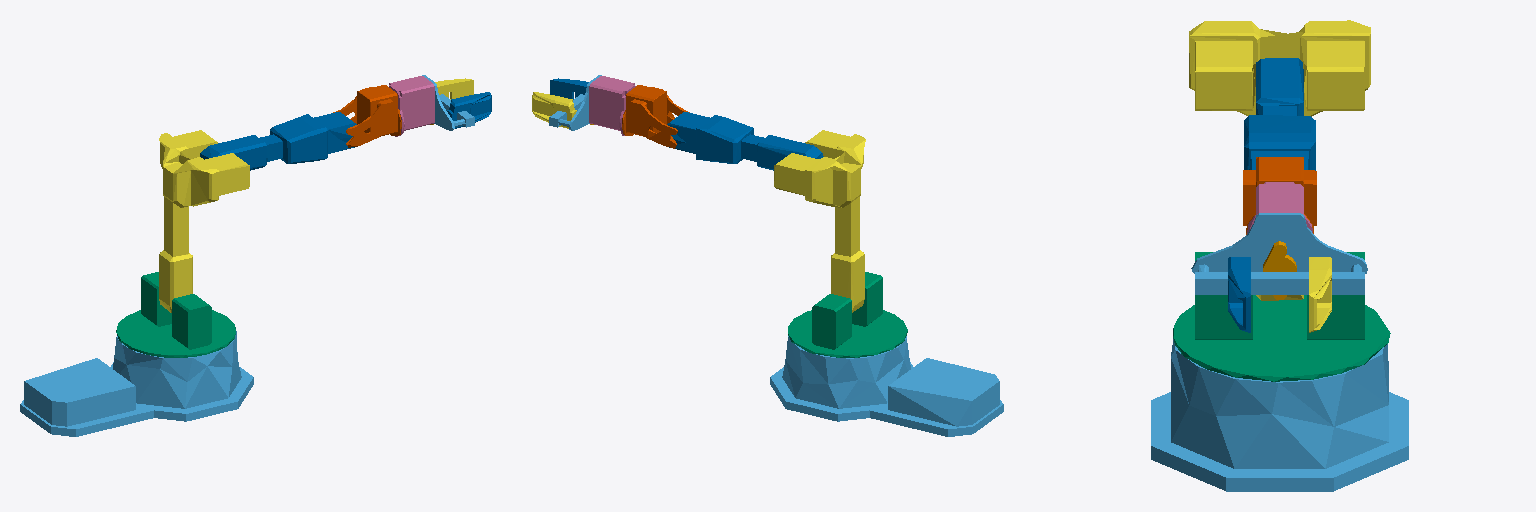
robot.urdf — px150:
<?xml version="1.0" ?>
<!-- =================================================================================== -->
<!-- |    This document was autogenerated by xacro from px150_coll.urdf.xacro          | -->
<!-- |    EDITING THIS FILE BY HAND IS NOT RECOMMENDED                                 | -->
<!-- =================================================================================== -->
<!-- gz-11.3.0 sdf -p px150_coll.urdf >px150_coll.sdf -->
<robot name="px150">
  <material name="interbotix_black">
    <texture filename="package://meshes/interbotix_black.png"/>
  </material>
  <link name="world"/>
  <joint name="fix_to_world" type="fixed">
    <parent link="world"/>
    <child link="px150/base_link"/>
  </joint>
  <link name="px150/base_link">
    <visual>
      <origin rpy="0 0 -1.5707963267948966" xyz="0 0 0"/>
      <geometry>
        <mesh filename="package://meshes/px150_meshes/px150_1_base_coll.stl" scale="0.001 0.001 0.001"/>
      </geometry>
      <material name="interbotix_black"/>
    </visual>
    <collision>
      <origin rpy="0 0 -1.5707963267948966" xyz="0 0 0"/>
      <geometry>
        <mesh filename="package://meshes/px150_meshes/px150_1_base_coll.stl" scale="0.001 0.001 0.001"/>
      </geometry>
    </collision>
    <inertial>
      <origin rpy="0 0 1.5707963267948966" xyz="-0.0354561000 -0.0033567000 0.0253423000"/>
      <mass value="0.766173"/>
      <inertia ixx="0.0033550000" ixy="-0.0001248000" ixz="0.0000110400" iyy="0.0013570000" iyz="0.0002101000" izz="0.0041120000"/>
    </inertial>
  </link>
  <joint name="waist" type="revolute">
    <axis xyz="0 0 1"/>
    <limit effort="8" lower="-3.141582653589793" upper="3.141582653589793" velocity="3.141592653589793"/>
    <origin rpy="0 0 0" xyz="0 0 0.06566"/>
    <parent link="px150/base_link"/>
    <child link="px150/shoulder_link"/>
    <dynamics friction="0.1"/>
  </joint>
  <transmission name="trans_waist">
    <type>transmission_interface/SimpleTransmission</type>
    <joint name="waist">
      <hardwareInterface>hardware_interface/EffortJointInterface</hardwareInterface>
    </joint>
    <actuator name="waist_motor">
      <mechanicalReduction>1</mechanicalReduction>
    </actuator>
  </transmission>
  <link name="px150/shoulder_link">
    <visual>
      <origin rpy="0 0 -1.5707963267948966" xyz="0 0 0.0015"/>
      <geometry>
        <mesh filename="package://meshes/px150_meshes/px150_2_shoulder_coll.stl" scale="0.001 0.001 0.001"/>
      </geometry>
      <material name="interbotix_black"/>
    </visual>
    <collision>
      <origin rpy="0 0 -1.5707963267948966" xyz="0 0 0.0015"/>
      <geometry>
        <mesh filename="package://meshes/px150_meshes/px150_2_shoulder_coll.stl" scale="0.001 0.001 0.001"/>
      </geometry>
    </collision>
    <inertial>
      <origin rpy="0 0 1.5707963267948966" xyz="-0.0001000750 0.0000203624 0.0104104000"/>
      <mass value="0.287601"/>
      <inertia ixx="0.0002390000" ixy="0.0000000010" ixz="0.0000000348" iyy="0.0003634000" iyz="0.0000003613" izz="0.0004126000"/>
    </inertial>
  </link>
  <joint name="shoulder" type="revolute">
    <axis xyz="0 1 0"/>
    <limit effort="18" lower="-1.9373154697137058" upper="1.9373154697137058" velocity="3.141592653589793"/>
    <origin rpy="0 0 0" xyz="0 0 0.03891"/>
    <parent link="px150/shoulder_link"/>
    <child link="px150/upper_arm_link"/>
    <dynamics friction="0.1"/>
  </joint>
  <transmission name="trans_shoulder">
    <type>transmission_interface/SimpleTransmission</type>
    <joint name="shoulder">
      <hardwareInterface>hardware_interface/EffortJointInterface</hardwareInterface>
    </joint>
    <actuator name="shoulder_motor">
      <mechanicalReduction>1</mechanicalReduction>
    </actuator>
  </transmission>
  <link name="px150/upper_arm_link">
    <visual>
      <origin rpy="0 0 1.5707963267948966" xyz="0 0 0"/>
      <geometry>
        <mesh filename="package://meshes/px150_meshes/px150_3_upper_arm_coll.stl" scale="0.001 0.001 0.001"/>
      </geometry>
      <material name="interbotix_black"/>
    </visual>
    <collision>
      <origin rpy="0 0 1.5707963267948966" xyz="0 0 0"/>
      <geometry>
        <mesh filename="package://meshes/px150_meshes/px150_3_upper_arm_coll.stl" scale="0.001 0.001 0.001"/>
      </geometry>
    </collision>
    <inertial>
      <origin rpy="0 0 1.5707963267948966" xyz="0.0166098000 0.0000000279 0.1157350000"/>
      <mass value="0.338081"/>
      <inertia ixx="0.0010210000" ixy="-0.0000000001" ixz="0.0000000000" iyy="0.0011320000" iyz="0.0001839000" izz="0.0003525000"/>
    </inertial>
  </link>
  <joint name="elbow" type="revolute">
    <axis xyz="0 1 0"/>
    <limit effort="13" lower="-2.0943951023931953" upper="1.6580627893946132" velocity="3.141592653589793"/>
    <origin rpy="0 0 0" xyz="0.05 0 0.15"/>
    <parent link="px150/upper_arm_link"/>
    <child link="px150/forearm_link"/>
    <dynamics friction="0.1"/>
  </joint>
  <transmission name="trans_elbow">
    <type>transmission_interface/SimpleTransmission</type>
    <joint name="elbow">
      <hardwareInterface>hardware_interface/EffortJointInterface</hardwareInterface>
    </joint>
    <actuator name="elbow_motor">
      <mechanicalReduction>1</mechanicalReduction>
    </actuator>
  </transmission>
  <link name="px150/forearm_link">
    <visual>
      <origin rpy="0 0 1.5707963267948966" xyz="0 0 0"/>
      <geometry>
        <mesh filename="package://meshes/px150_meshes/px150_4_forearm_coll.stl" scale="0.001 0.001 0.001"/>
      </geometry>
      <material name="interbotix_black"/>
    </visual>
    <collision>
      <origin rpy="0 0 1.5707963267948966" xyz="0 0 0"/>
      <geometry>
        <mesh filename="package://meshes/px150_meshes/px150_4_forearm_coll.stl" scale="0.001 0.001 0.001"/>
      </geometry>
    </collision>
    <inertial>
      <origin rpy="0 0 1.5707963267948966" xyz="0.0848470000 -0.0001072261 0.0000000000"/>
      <mass value="0.226542"/>
      <inertia ixx="0.0005125000" ixy="-0.0000013403" ixz="0.0000000000" iyy="0.0000498800" iyz="0.0000000000" izz="0.0005207000"/>
    </inertial>
  </link>
  <joint name="wrist_angle" type="revolute">
    <axis xyz="0 1 0"/>
    <limit effort="5" lower="-1.7453292519943295" upper="2.1467549799530254" velocity="3.141592653589793"/>
    <origin rpy="0 0 0" xyz="0.15 0 0"/>
    <parent link="px150/forearm_link"/>
    <child link="px150/wrist_link"/>
    <dynamics friction="0.1"/>
  </joint>
  <transmission name="trans_wrist_angle">
    <type>transmission_interface/SimpleTransmission</type>
    <joint name="wrist_angle">
      <hardwareInterface>hardware_interface/EffortJointInterface</hardwareInterface>
    </joint>
    <actuator name="wrist_angle_motor">
      <mechanicalReduction>1</mechanicalReduction>
    </actuator>
  </transmission>
  <link name="px150/wrist_link">
    <visual>
      <origin rpy="0 0 1.5707963267948966" xyz="0 0 0"/>
      <geometry>
        <mesh filename="package://meshes/px150_meshes/px150_5_wrist_coll.stl" scale="0.001 0.001 0.001"/>
      </geometry>
      <material name="interbotix_black"/>
    </visual>
    <collision>
      <origin rpy="0 0 1.5707963267948966" xyz="0 0 0"/>
      <geometry>
        <mesh filename="package://meshes/px150_meshes/px150_5_wrist_coll.stl" scale="0.001 0.001 0.001"/>
      </geometry>
    </collision>
    <inertial>
      <origin rpy="0 0 1.5707963267948966" xyz="0.0423600000 -0.0000104110 0.0105770000"/>
      <mass value="0.084957"/>
      <inertia ixx="0.0000308200" ixy="0.0000000191" ixz="0.0000000023" iyy="0.0000282200" iyz="0.0000025481" izz="0.0000315200"/>
    </inertial>
  </link>
  <joint name="wrist_rotate" type="revolute">
    <axis xyz="1 0 0"/>
    <limit effort="1" lower="-3.141582653589793" upper="3.141582653589793" velocity="3.141592653589793"/>
    <origin rpy="0 0 0" xyz="0.065 0 0"/>
    <parent link="px150/wrist_link"/>
    <child link="px150/gripper_link"/>
    <dynamics friction="0.1"/>
  </joint>
  <transmission name="trans_wrist_rotate">
    <type>transmission_interface/SimpleTransmission</type>
    <joint name="wrist_rotate">
      <hardwareInterface>hardware_interface/EffortJointInterface</hardwareInterface>
    </joint>
    <actuator name="wrist_rotate_motor">
      <mechanicalReduction>1</mechanicalReduction>
    </actuator>
  </transmission>
  <link name="px150/gripper_link">
    <visual>
      <origin rpy="0 0 1.5707963267948966" xyz="-0.02 0 0"/>
      <geometry>
        <mesh filename="package://meshes/px150_meshes/px150_6_gripper_coll.stl" scale="0.001 0.001 0.001"/>
      </geometry>
      <material name="interbotix_black"/>
    </visual>
    <collision>
      <origin rpy="0 0 1.5707963267948966" xyz="-0.02 0 0"/>
      <geometry>
        <mesh filename="package://meshes/px150_meshes/px150_6_gripper_coll.stl" scale="0.001 0.001 0.001"/>
      </geometry>
    </collision>
    <inertial>
      <origin rpy="0 0 1.5707963267948966" xyz="0.0216300000 0.0000000000 0.0114100000"/>
      <mass value="0.072885"/>
      <inertia ixx="0.0000253700" ixy="0.0000000000" ixz="0.0000000000" iyy="0.0000183600" iyz="0.0000004340" izz="0.0000167400"/>
    </inertial>
  </link>
  <joint name="ee_arm" type="fixed">
    <axis xyz="1 0 0"/>
    <origin rpy="0 0 0" xyz="0.043 0 0"/>
    <parent link="px150/gripper_link"/>
    <child link="px150/ee_arm_link"/>
  </joint>
  <link name="px150/ee_arm_link">
    <inertial>
      <mass value="0.001"/>
      <inertia ixx="0.0001" ixy="0" ixz="0" iyy="0.0001" iyz="0" izz="0.0001"/>
    </inertial>
  </link>
  <joint name="gripper" type="continuous">
    <axis xyz="1 0 0"/>
    <limit effort="1" velocity="3.141592653589793"/>
    <origin rpy="0 0 0" xyz="0.0055 0 0"/>
    <parent link="px150/ee_arm_link"/>
    <child link="px150/gripper_prop_link"/>
    <dynamics friction="0.1"/>
  </joint>
  <transmission name="trans_gripper">
    <type>transmission_interface/SimpleTransmission</type>
    <joint name="gripper">
      <hardwareInterface>hardware_interface/EffortJointInterface</hardwareInterface>
    </joint>
    <actuator name="gripper_motor">
      <mechanicalReduction>1</mechanicalReduction>
    </actuator>
  </transmission>
  <link name="px150/gripper_prop_link">
    <visual>
      <origin rpy="0 0 1.5707963267948966" xyz="-0.0685 0 0"/>
      <geometry>
        <mesh filename="package://meshes/px150_meshes/px150_7_gripper_prop_coll.stl" scale="0.001 0.001 0.001"/>
      </geometry>
      <material name="interbotix_black"/>
    </visual>
    <collision>
      <origin rpy="0 0 1.5707963267948966" xyz="-0.0685 0 0"/>
      <geometry>
        <mesh filename="package://meshes/px150_meshes/px150_7_gripper_prop_coll.stl" scale="0.001 0.001 0.001"/>
      </geometry>
    </collision>
    <inertial>
      <origin rpy="0 0 1.5707963267948966" xyz="0.0008460000 -0.0000019330 0.0000420000"/>
      <mass value="0.00434"/>
      <inertia ixx="0.0000005923" ixy="0.0000000000" ixz="0.0000003195" iyy="0.0000011156" iyz="-0.0000000004" izz="0.0000005743"/>
    </inertial>
  </link>
  <!-- If the AR tag is being used, then add the AR tag mount -->
  <!-- If the gripper bar is being used, then also add the gripper bar -->
  <joint name="gripper_bar" type="fixed">
    <axis xyz="1 0 0"/>
    <origin rpy="0 0 0" xyz="0 0 0"/>
    <parent link="px150/ee_arm_link"/>
    <child link="px150/gripper_bar_link"/>
  </joint>
  <link name="px150/gripper_bar_link">
    <visual>
      <origin rpy="0 0 1.5707963267948966" xyz="-0.063 0 0"/>
      <geometry>
        <mesh filename="package://meshes/px150_meshes/px150_8_gripper_bar_coll.stl" scale="0.001 0.001 0.001"/>
      </geometry>
      <material name="interbotix_black"/>
    </visual>
    <collision>
      <origin rpy="0 0 1.5707963267948966" xyz="-0.063 0 0"/>
      <geometry>
        <mesh filename="package://meshes/px150_meshes/px150_8_gripper_bar_coll.stl" scale="0.001 0.001 0.001"/>
      </geometry>
    </collision>
    <inertial>
      <origin rpy="0 0 1.5707963267948966" xyz="0.0096870000 0.0000005660 0.0049620000"/>
      <mass value="0.034199"/>
      <inertia ixx="0.0000074125" ixy="-0.0000000008" ixz="-0.0000000006" iyy="0.0000284300" iyz="-0.0000013889" izz="0.0000286000"/>
    </inertial>
  </link>
  <joint name="ee_bar" type="fixed">
    <axis xyz="1 0 0"/>
    <origin rpy="0 0 0" xyz="0.023 0 0"/>
    <parent link="px150/gripper_bar_link"/>
    <child link="px150/fingers_link"/>
  </joint>
  <link name="px150/fingers_link">
    <inertial>
      <mass value="0.001"/>
      <inertia ixx="0.0001" ixy="0" ixz="0" iyy="0.0001" iyz="0" izz="0.0001"/>
    </inertial>
  </link>
  <!-- If the gripper fingers are being used, add those as well -->
  <joint name="left_finger" type="prismatic">
    <axis xyz="0 1 0"/>
    <limit effort="5" lower="0.015" upper="0.037" velocity="1"/>
    <origin rpy="0 0 0" xyz="0 0 0"/>
    <parent link="px150/fingers_link"/>
    <child link="px150/left_finger_link"/>
    <dynamics friction="0.1"/>
  </joint>
  <transmission name="trans_left_finger">
    <type>transmission_interface/SimpleTransmission</type>
    <joint name="left_finger">
      <hardwareInterface>hardware_interface/EffortJointInterface</hardwareInterface>
    </joint>
    <actuator name="left_finger_motor">
      <mechanicalReduction>1</mechanicalReduction>
    </actuator>
  </transmission>
  <link name="px150/left_finger_link">
    <visual>
      <origin rpy="3.141592653589793 3.141592653589793 0" xyz="0 0.005 0"/>
      <geometry>
        <mesh filename="package://meshes/px150_meshes/px150_9_gripper_finger_coll.stl" scale="0.001 0.001 0.001"/>
      </geometry>
      <material name="interbotix_black"/>
    </visual>
    <collision>
      <origin rpy="3.141592653589793 3.141592653589793 0" xyz="0 0.005 0"/>
      <geometry>
        <mesh filename="package://meshes/px150_meshes/px150_9_gripper_finger_coll.stl" scale="0.001 0.001 0.001"/>
      </geometry>
    </collision>
    <inertial>
      <origin rpy="3.141592653589793 3.141592653589793 1.5707963267948966" xyz="0.0138160000 0.0000000000 0.0000000000"/>
      <mass value="0.016246"/>
      <inertia ixx="0.0000047310" ixy="-0.0000004560" ixz="0.0000000000" iyy="0.0000015506" iyz="0.0000000000" izz="0.0000037467"/>
    </inertial>
  </link>
  <joint name="right_finger" type="prismatic">
    <axis xyz="0 1 0"/>
    <limit effort="5" lower="-0.037" upper="-0.015" velocity="1"/>
    <origin rpy="0 0 0" xyz="0 0 0"/>
    <parent link="px150/fingers_link"/>
    <child link="px150/right_finger_link"/>
    <dynamics friction="0.1"/>
    <mimic joint="left_finger" multiplier="-1" offset="0"/>
  </joint>
  <transmission name="trans_right_finger">
    <type>transmission_interface/SimpleTransmission</type>
    <joint name="right_finger">
      <hardwareInterface>hardware_interface/EffortJointInterface</hardwareInterface>
    </joint>
    <actuator name="right_finger_motor">
      <mechanicalReduction>1</mechanicalReduction>
    </actuator>
  </transmission>
  <link name="px150/right_finger_link">
    <visual>
      <origin rpy="0 3.141592653589793 0" xyz="0 -0.005 0"/>
      <geometry>
        <mesh filename="package://meshes/px150_meshes/px150_9_gripper_finger_coll.stl" scale="0.001 0.001 0.001"/>
      </geometry>
      <material name="interbotix_black"/>
    </visual>
    <collision>
      <origin rpy="0 3.141592653589793 0" xyz="0 -0.005 0"/>
      <geometry>
        <mesh filename="package://meshes/px150_meshes/px150_9_gripper_finger_coll.stl" scale="0.001 0.001 0.001"/>
      </geometry>
    </collision>
    <inertial>
      <origin rpy="0 3.141592653589793 1.5707963267948966" xyz="0.0138160000 0.0000000000  0.0000000000"/>
      <mass value="0.016246"/>
      <inertia ixx="0.0000047310" ixy="0.0000004560" ixz="0.0000000000" iyy="0.0000015506" iyz="0.0000000000" izz="0.0000037467"/>
    </inertial>
  </link>
  <joint name="ee_gripper" type="fixed">
    <axis xyz="1 0 0"/>
    <origin rpy="0 0 0" xyz="0.027575 0 0"/>
    <parent link="px150/fingers_link"/>
    <child link="px150/ee_gripper_link"/>
  </joint>
  <link name="px150/ee_gripper_link">
    <inertial>
      <mass value="0.001"/>
      <inertia ixx="0.0001" ixy="0" ixz="0" iyy="0.0001" iyz="0" izz="0.0001"/>
    </inertial>
  </link>
</robot>

--- Render facts (derived) ---
The picture shows the robot from 3 angles, left to right: view 1: azimuth 30°, elevation 25°; view 2: azimuth 150°, elevation 25°; view 3: azimuth 270°, elevation 25°; orthographic projection.
Model px150 with 14 links and 13 joints (5 revolute, 1 continuous, 2 prismatic, 5 fixed), rooted at world, posed joints at zero except 2 at the middle of their limits (left_finger = 0.026, right_finger = -0.026).
Visible links, largest first — view 1: px150/base_link, px150/upper_arm_link, px150/shoulder_link, px150/forearm_link, px150/wrist_link, px150/gripper_link, px150/right_finger_link, px150/gripper_bar_link, px150/left_finger_link; view 2: px150/base_link, px150/upper_arm_link, px150/shoulder_link, px150/forearm_link, px150/wrist_link, px150/gripper_link, px150/left_finger_link, px150/gripper_bar_link, px150/right_finger_link; view 3: px150/base_link, px150/shoulder_link, px150/upper_arm_link, px150/gripper_bar_link, px150/forearm_link, px150/wrist_link, px150/right_finger_link, px150/left_finger_link, px150/gripper_link, px150/gripper_prop_link.
Boxes of the visible links, x1,y1,x2,y2 form: px150/base_link: (20,331,253,436); px150/upper_arm_link: (159,130,249,312); px150/shoulder_link: (116,272,235,357); px150/forearm_link: (200,112,356,170); px150/wrist_link: (333,85,401,147); px150/gripper_link: (389,76,434,136); px150/right_finger_link: (447,92,491,128); px150/gripper_bar_link: (422,75,474,130); px150/left_finger_link: (435,78,473,99); px150/base_link: (770,336,1003,436); px150/upper_arm_link: (774,130,865,312); px150/shoulder_link: (788,272,907,357); px150/forearm_link: (667,112,823,170); px150/wrist_link: (622,85,689,148); px150/gripper_link: (589,76,635,135); px150/left_finger_link: (532,92,576,128); px150/gripper_bar_link: (549,75,601,130); px150/right_finger_link: (550,78,588,99); px150/base_link: (1151,339,1408,491); px150/shoulder_link: (1173,252,1390,381); px150/upper_arm_link: (1189,20,1370,300); px150/gripper_bar_link: (1191,213,1367,294); px150/forearm_link: (1244,58,1315,170); px150/wrist_link: (1243,157,1316,234); px150/right_finger_link: (1228,257,1250,332); px150/left_finger_link: (1309,257,1331,332); px150/gripper_link: (1247,182,1312,233); px150/gripper_prop_link: (1263,241,1296,299).
Size in the robot's own frame: 0.5462 by 0.1531 by 0.2898 metres.
Meshes: 9 distinct files referenced, 10 mesh visuals loaded (9 binary STL).